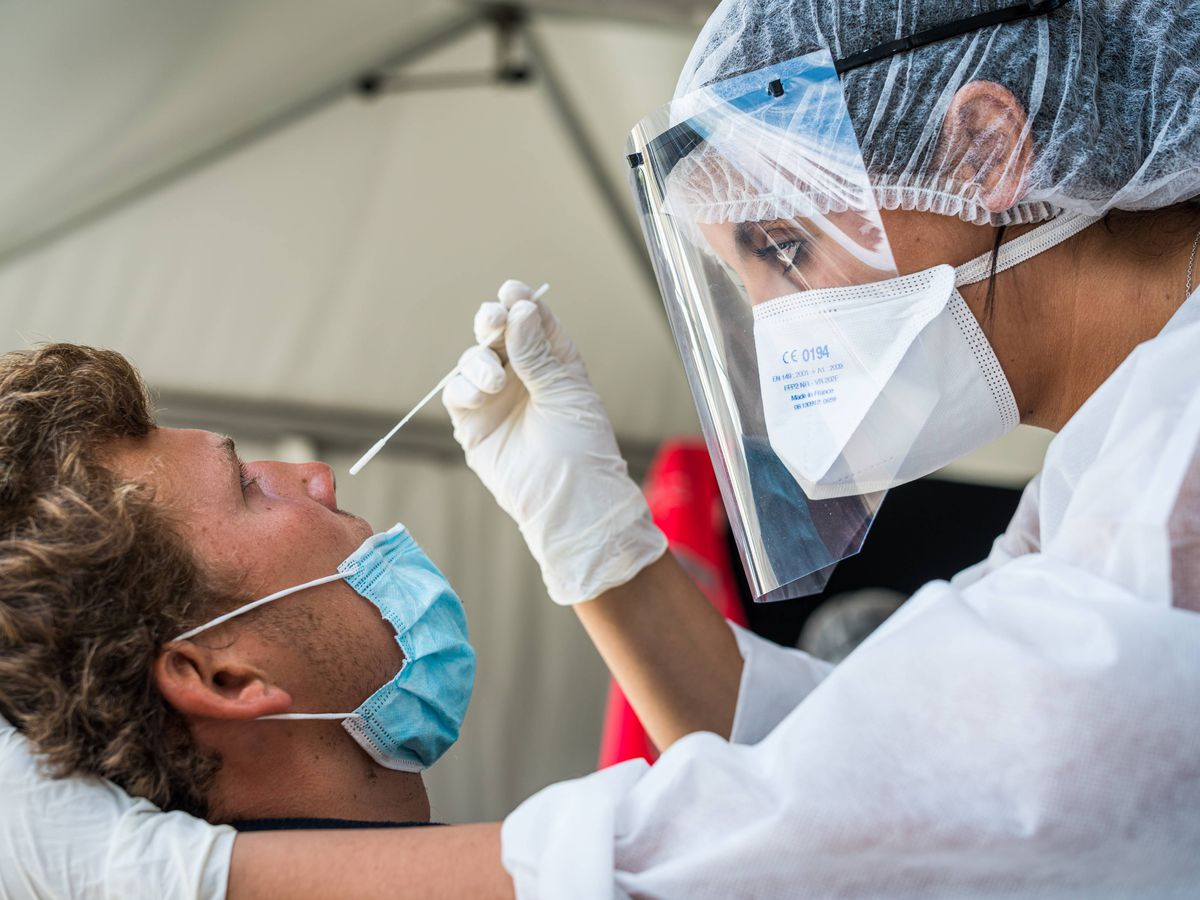with_incorrect_mask: (151, 421, 474, 729)
with_mask: (711, 153, 971, 480)
